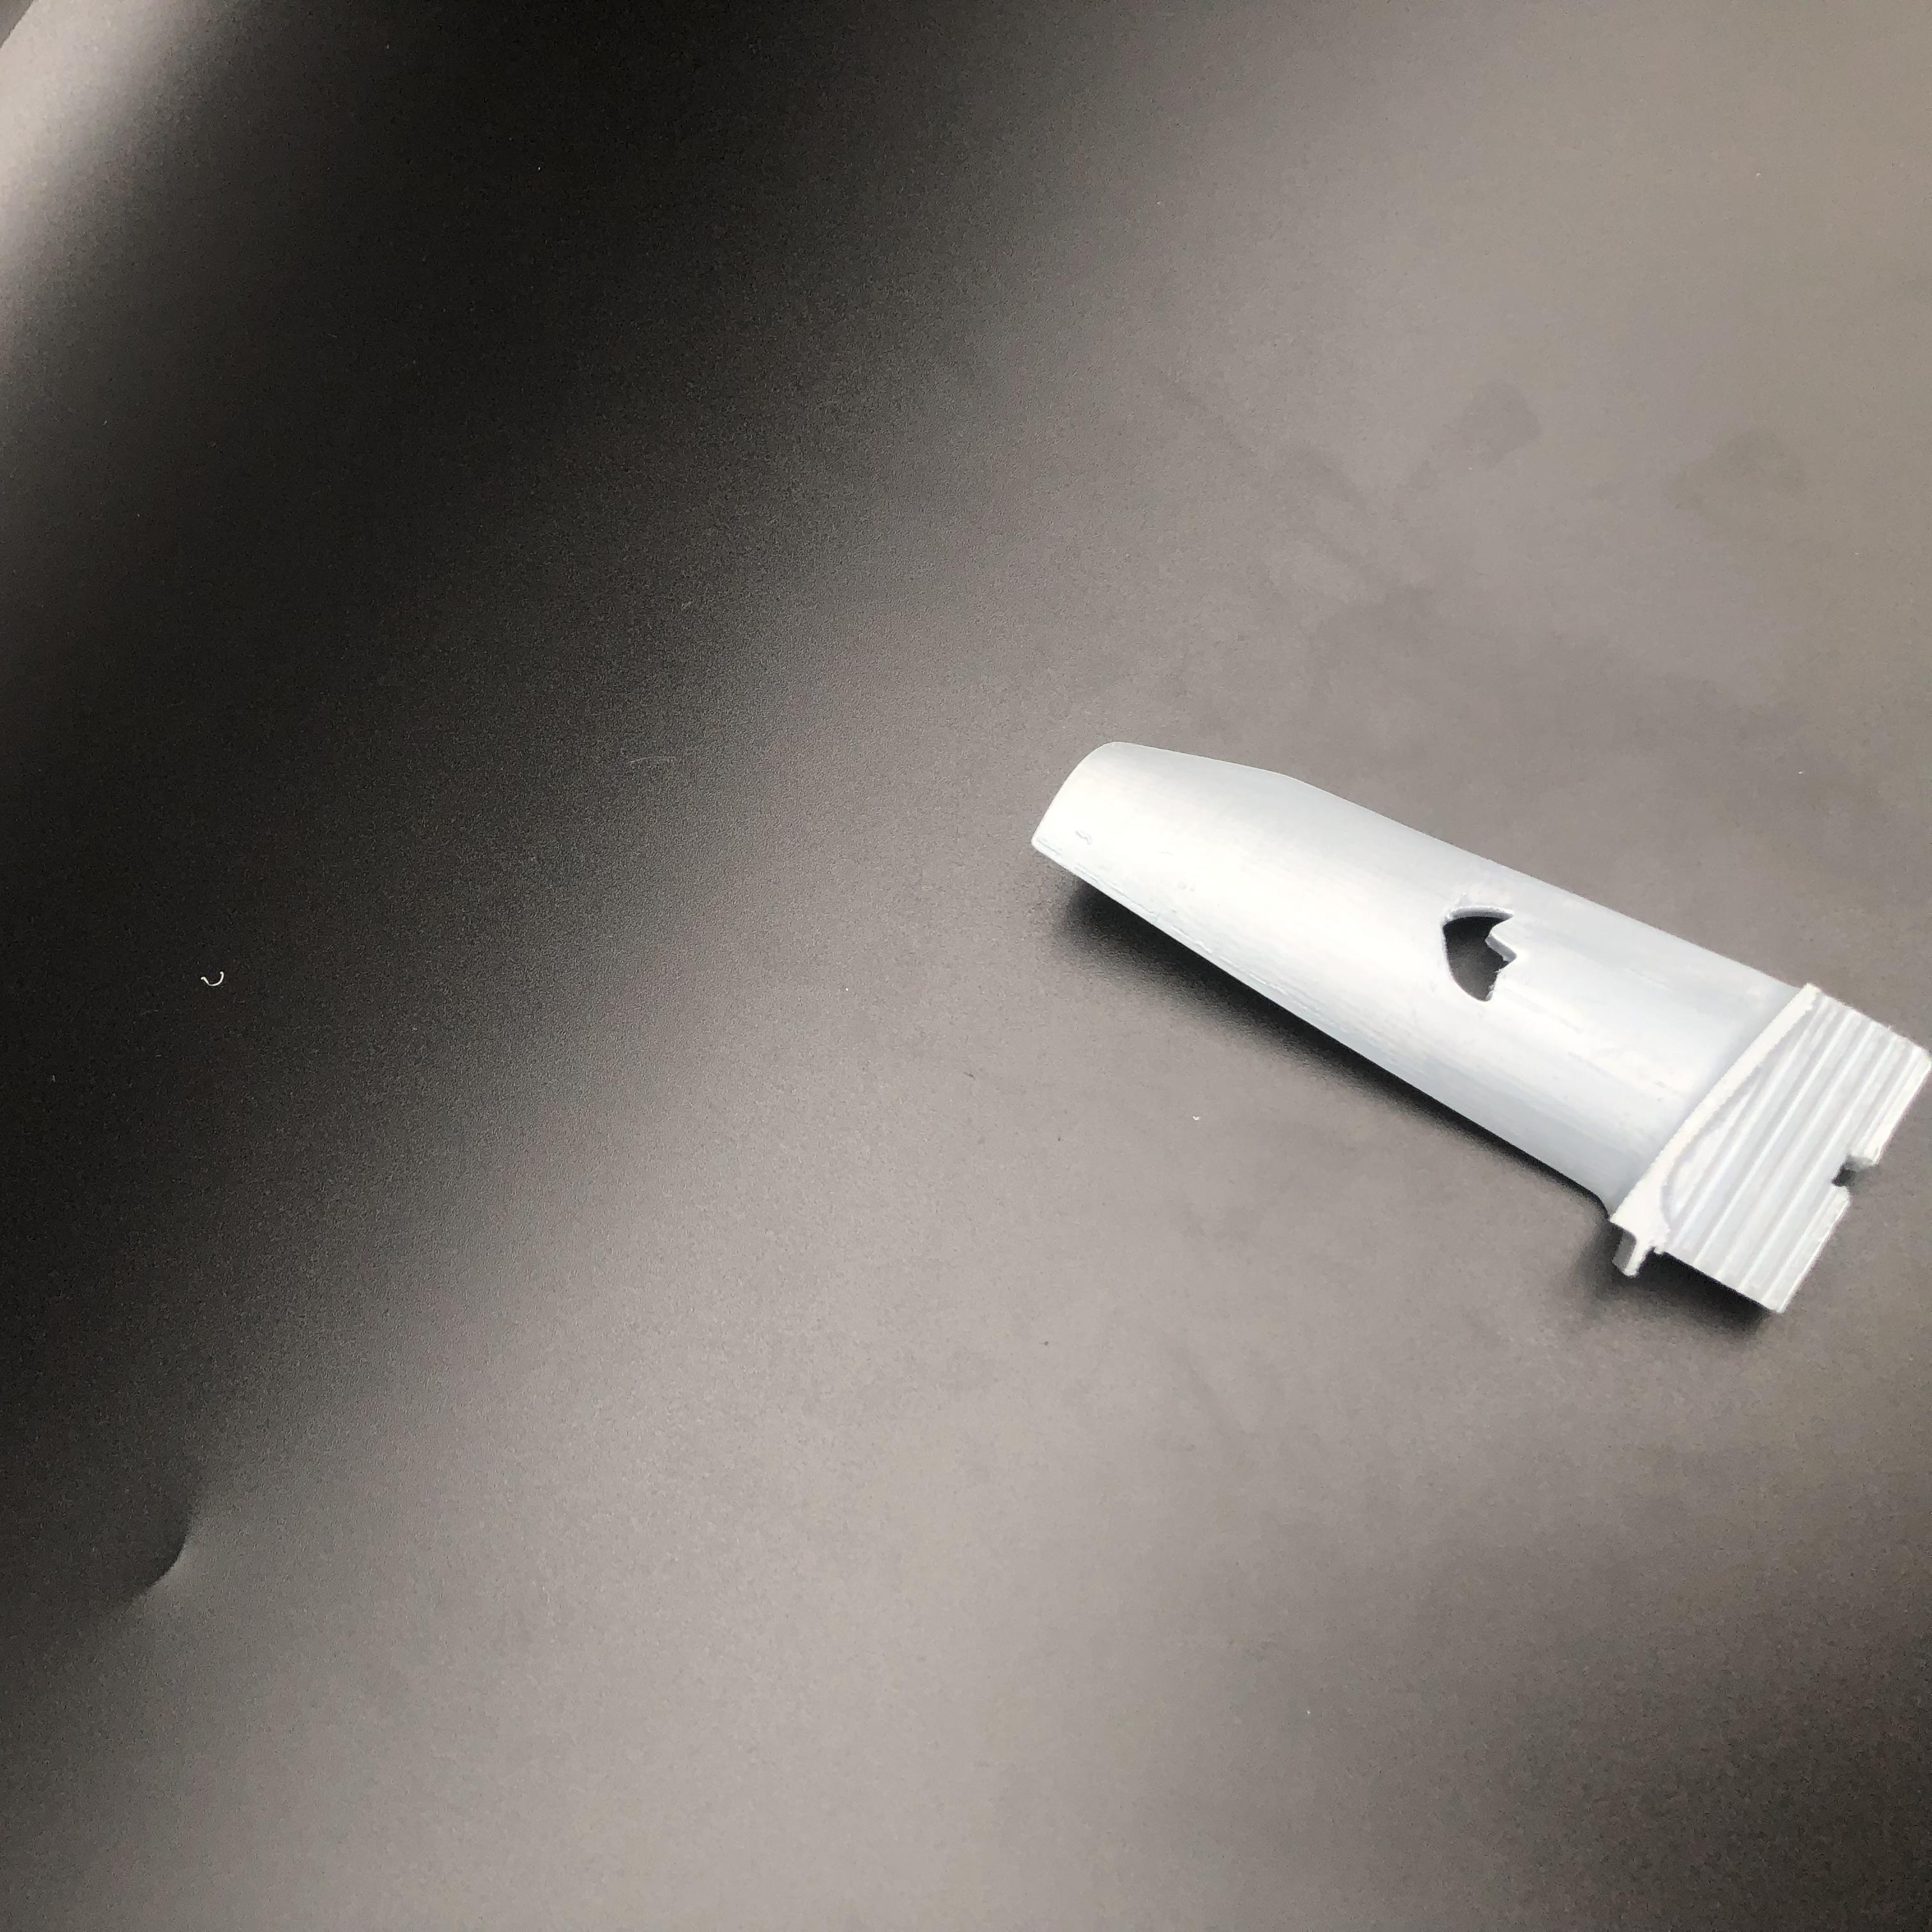breakdown: (1414, 888, 1525, 1012)
